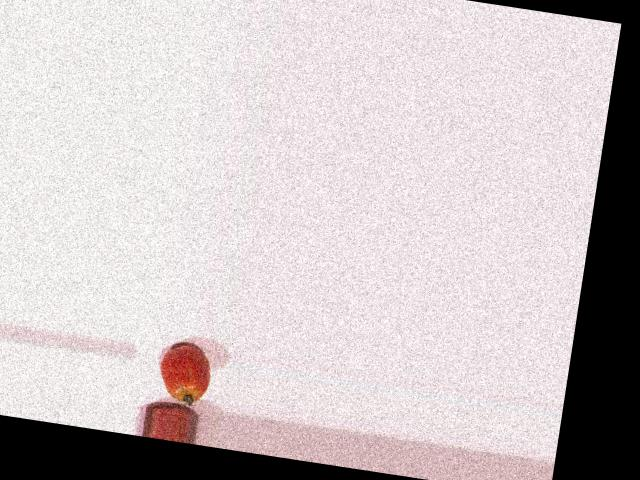tomato: (155, 342, 213, 405)
